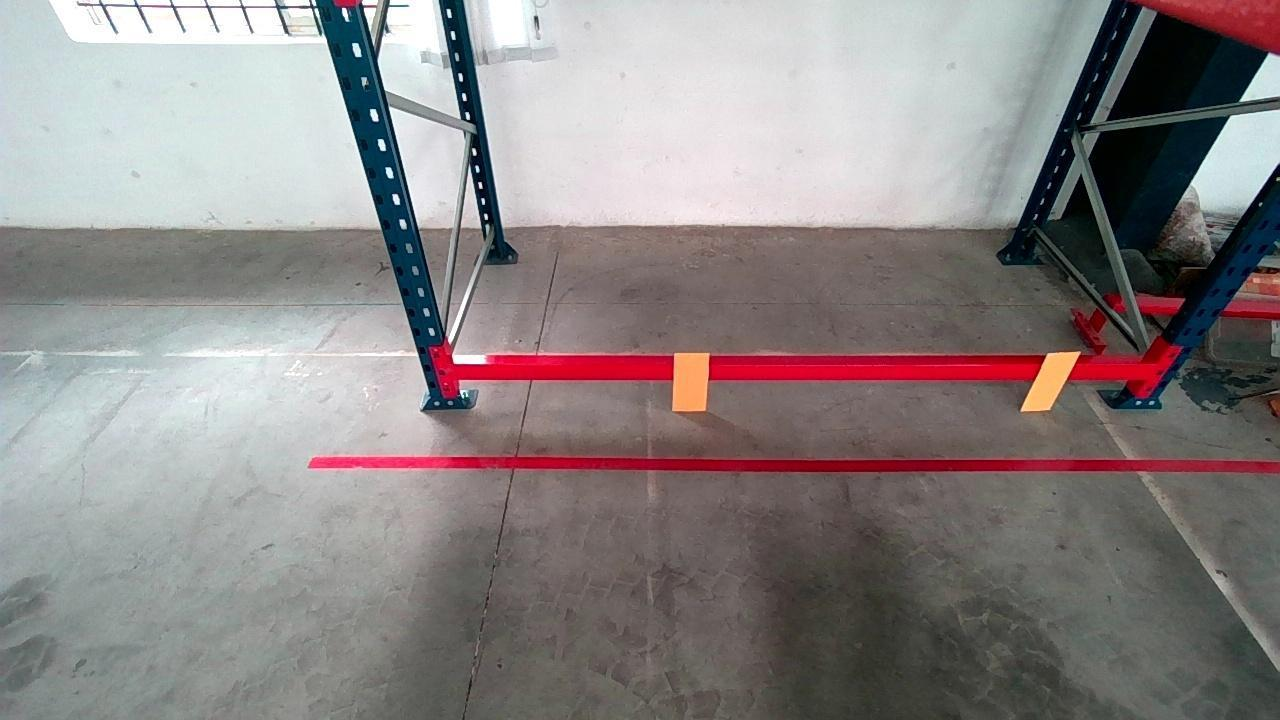h_rack: (450, 359, 1155, 381)
orange_strip: (1022, 350, 1084, 410), (673, 351, 708, 410)
red_line: (304, 452, 1280, 473)
